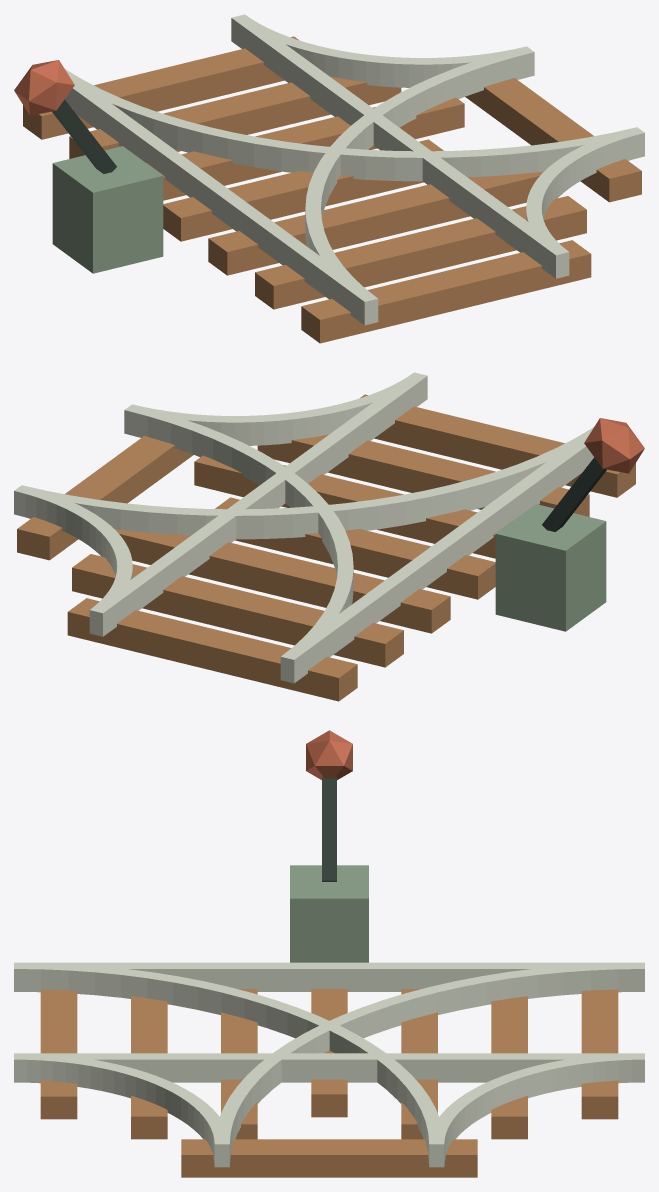
The model's file is rail-t_right.glb.
3 renders of one model, top to bottom at view 1: azimuth 30°, elevation 25°; view 2: azimuth 150°, elevation 25°; view 3: azimuth 270°, elevation 25°, orthographic. The views are drawn at different scales.
Parts seen in each view (by area): view 1: Mesh_rail-t_right_wood, Connected steel rails, Switch housing, Lever knob, Lever; view 2: Mesh_rail-t_right_wood, Connected steel rails, Switch housing, Lever knob, Lever; view 3: Connected steel rails, Mesh_rail-t_right_wood, Switch housing, Lever knob, Lever.
Part boxes in pixels (x1=…): Mesh_rail-t_right_wood: x1=23, y1=36, x2=641, y2=343; Connected steel rails: x1=64, y1=14, x2=644, y2=325; Switch housing: x1=52, y1=146, x2=163, y2=273; Lever knob: x1=14, y1=60, x2=74, y2=115; Lever: x1=52, y1=99, x2=116, y2=173; Mesh_rail-t_right_wood: x1=17, y1=394, x2=635, y2=701; Connected steel rails: x1=14, y1=372, x2=594, y2=683; Switch housing: x1=495, y1=504, x2=606, y2=631; Lever knob: x1=584, y1=418, x2=644, y2=473; Lever: x1=542, y1=457, x2=606, y2=531; Connected steel rails: x1=14, y1=962, x2=644, y2=1167; Mesh_rail-t_right_wood: x1=40, y1=989, x2=618, y2=1177; Switch housing: x1=290, y1=865, x2=368, y2=962; Lever knob: x1=306, y1=730, x2=352, y2=779; Lever: x1=322, y1=777, x2=336, y2=881.
Size of the model in its own units: 1 by 0.344 by 1.
